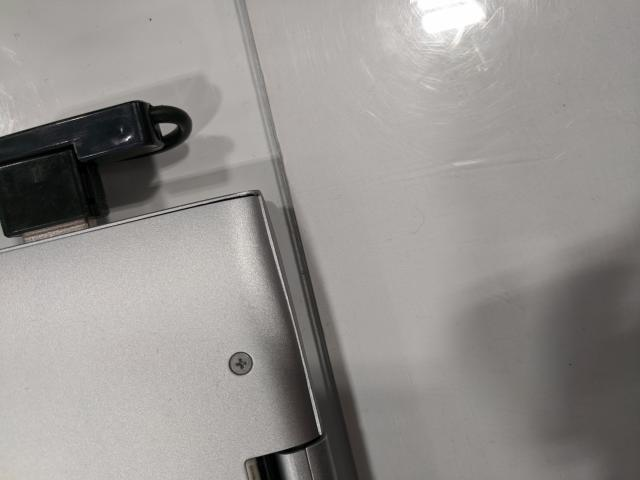CRS: (226, 350, 253, 376)
